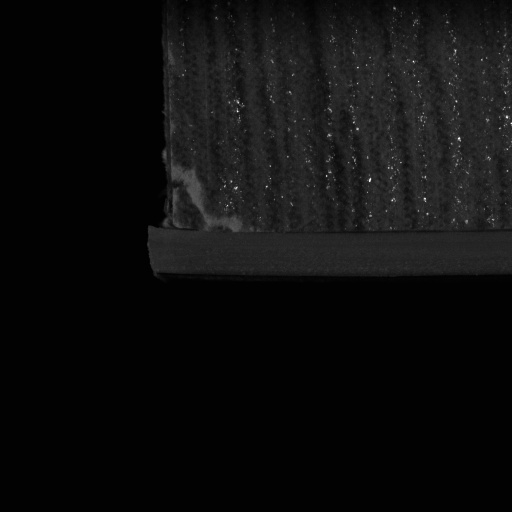bengque: (160, 162, 248, 236)
